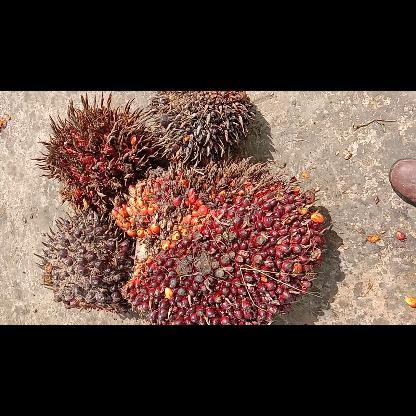Kurang masak: (36, 210, 130, 314)
TBS abnormal: (147, 90, 255, 162)
TBS masak: (111, 162, 327, 324)
Terlalu masak: (33, 90, 153, 212)
